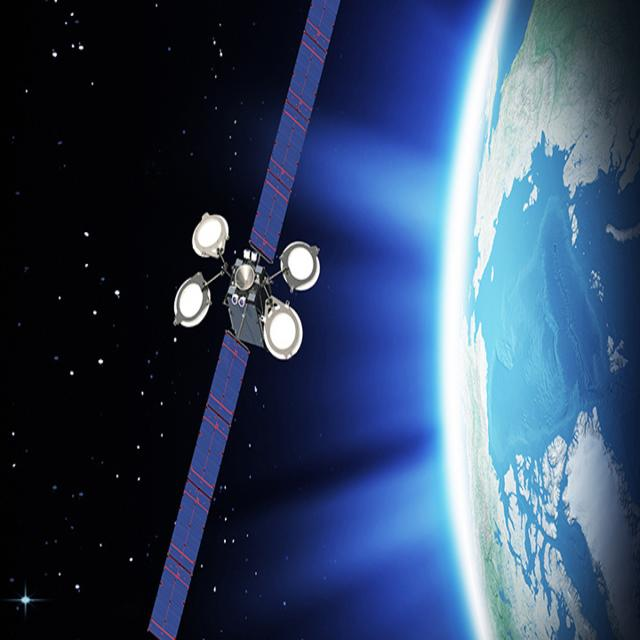satellite: (103, 0, 369, 640)
